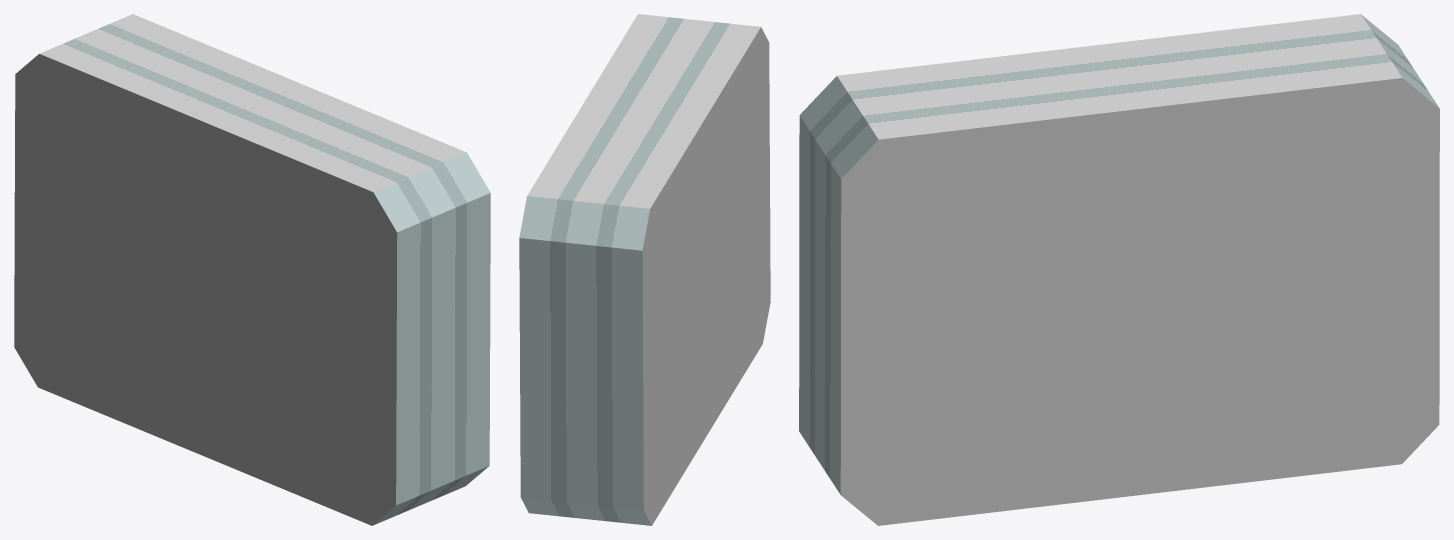
File: PokeMartSign.fbx
The picture shows the model from 3 angles, left to right: view 1: azimuth 30°, elevation 25°; view 2: azimuth 150°, elevation 25°; view 3: azimuth 270°, elevation 25°; orthographic projection. The views are drawn at different scales.
Parts seen in each view (by area): view 1: Spin; view 2: Spin; view 3: Spin.
Part boxes in pixels (x1,y1,x2,y2): Spin: (14, 14, 490, 525); Spin: (519, 14, 770, 525); Spin: (799, 14, 1439, 525).
Size of the model in its own units: 1.02 by 1.38 by 2.06.
